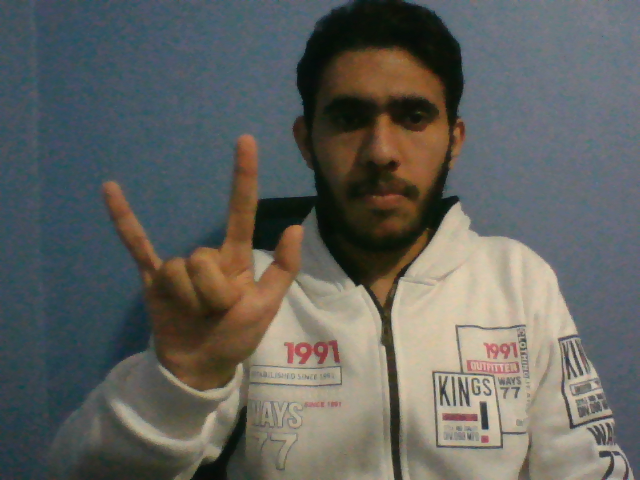iloveyou: (99, 129, 308, 380)
